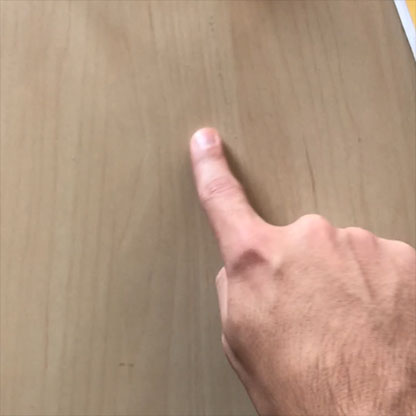fingertip: (188, 123, 229, 160)
